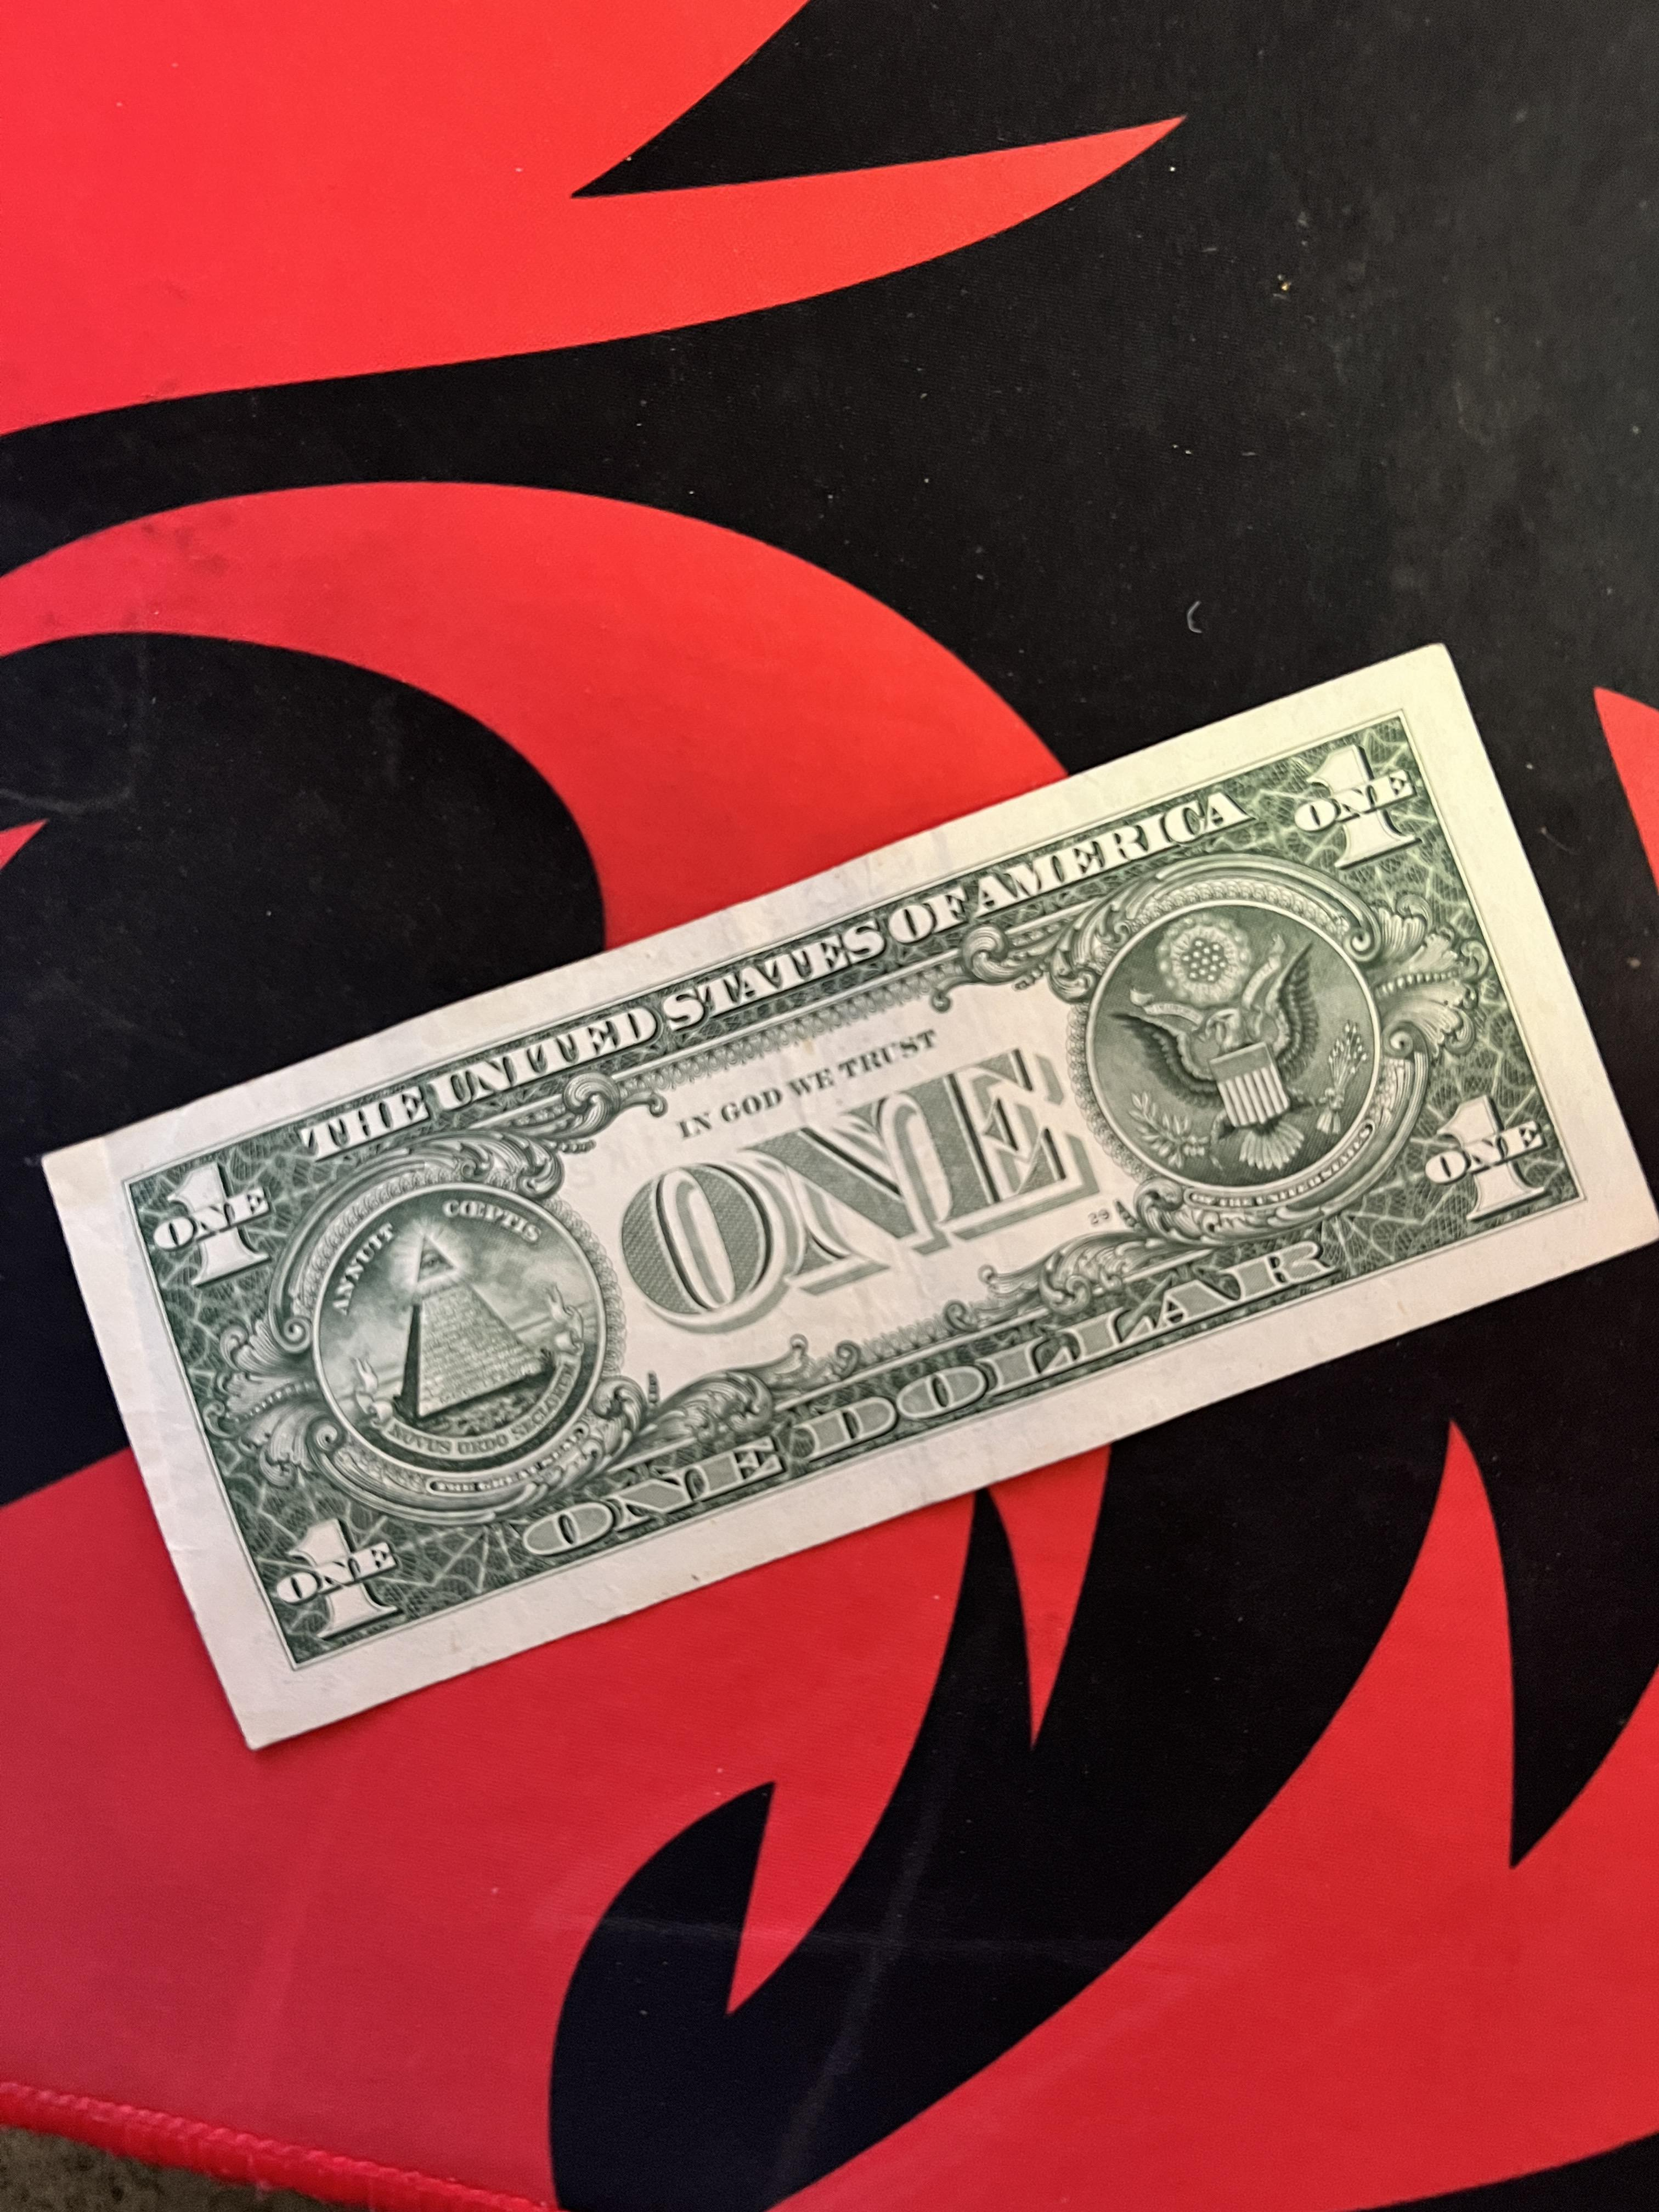OneBill: (30, 646, 1657, 1799)
